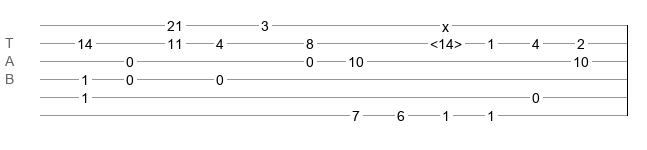0: (126, 72, 134, 82), (126, 54, 134, 64), (216, 72, 224, 82), (306, 54, 314, 64), (532, 90, 540, 100)
1: (81, 72, 89, 82), (81, 90, 89, 100), (442, 108, 450, 118), (487, 36, 495, 46), (487, 108, 495, 118)
10: (348, 54, 364, 64), (573, 54, 589, 64)
11: (167, 36, 183, 46)
14: (77, 36, 93, 46)
2: (577, 36, 585, 46)
21: (167, 18, 183, 28)
3: (261, 18, 269, 28)
4: (216, 36, 224, 46), (532, 36, 540, 46)
6: (397, 108, 405, 118)
7: (352, 108, 360, 118)
8: (306, 36, 314, 46)
harmonic: (430, 36, 462, 46)
x: (442, 19, 449, 27)
